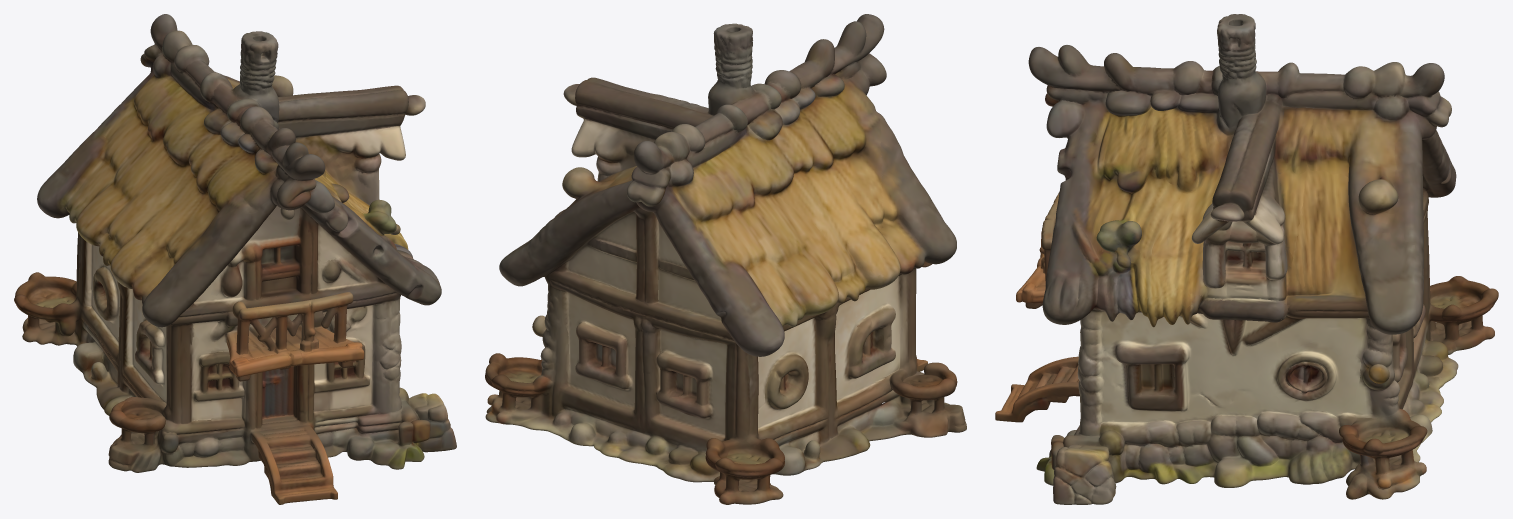
Rendered from village_building_01_lod0.glb.
3 renders of one model, left to right at view 1: azimuth 30°, elevation 25°; view 2: azimuth 150°, elevation 25°; view 3: azimuth 270°, elevation 25°, orthographic. The views are drawn at different scales.
Parts seen in each view (by area): view 1: tripo_node_8a496feb-6d8c-4070-937e-358509ef6d97.1029; view 2: tripo_node_8a496feb-6d8c-4070-937e-358509ef6d97.1029; view 3: tripo_node_8a496feb-6d8c-4070-937e-358509ef6d97.1029.
Part boxes in pixels (left/top/right/bottom): tripo_node_8a496feb-6d8c-4070-937e-358509ef6d97.1029: left=14, top=14, right=456, bottom=504; tripo_node_8a496feb-6d8c-4070-937e-358509ef6d97.1029: left=485, top=14, right=966, bottom=504; tripo_node_8a496feb-6d8c-4070-937e-358509ef6d97.1029: left=995, top=14, right=1498, bottom=504.
Size of the model in its own units: 0.287 by 0.2984 by 0.3233.
Materials: 1 (1 with a texture image).
